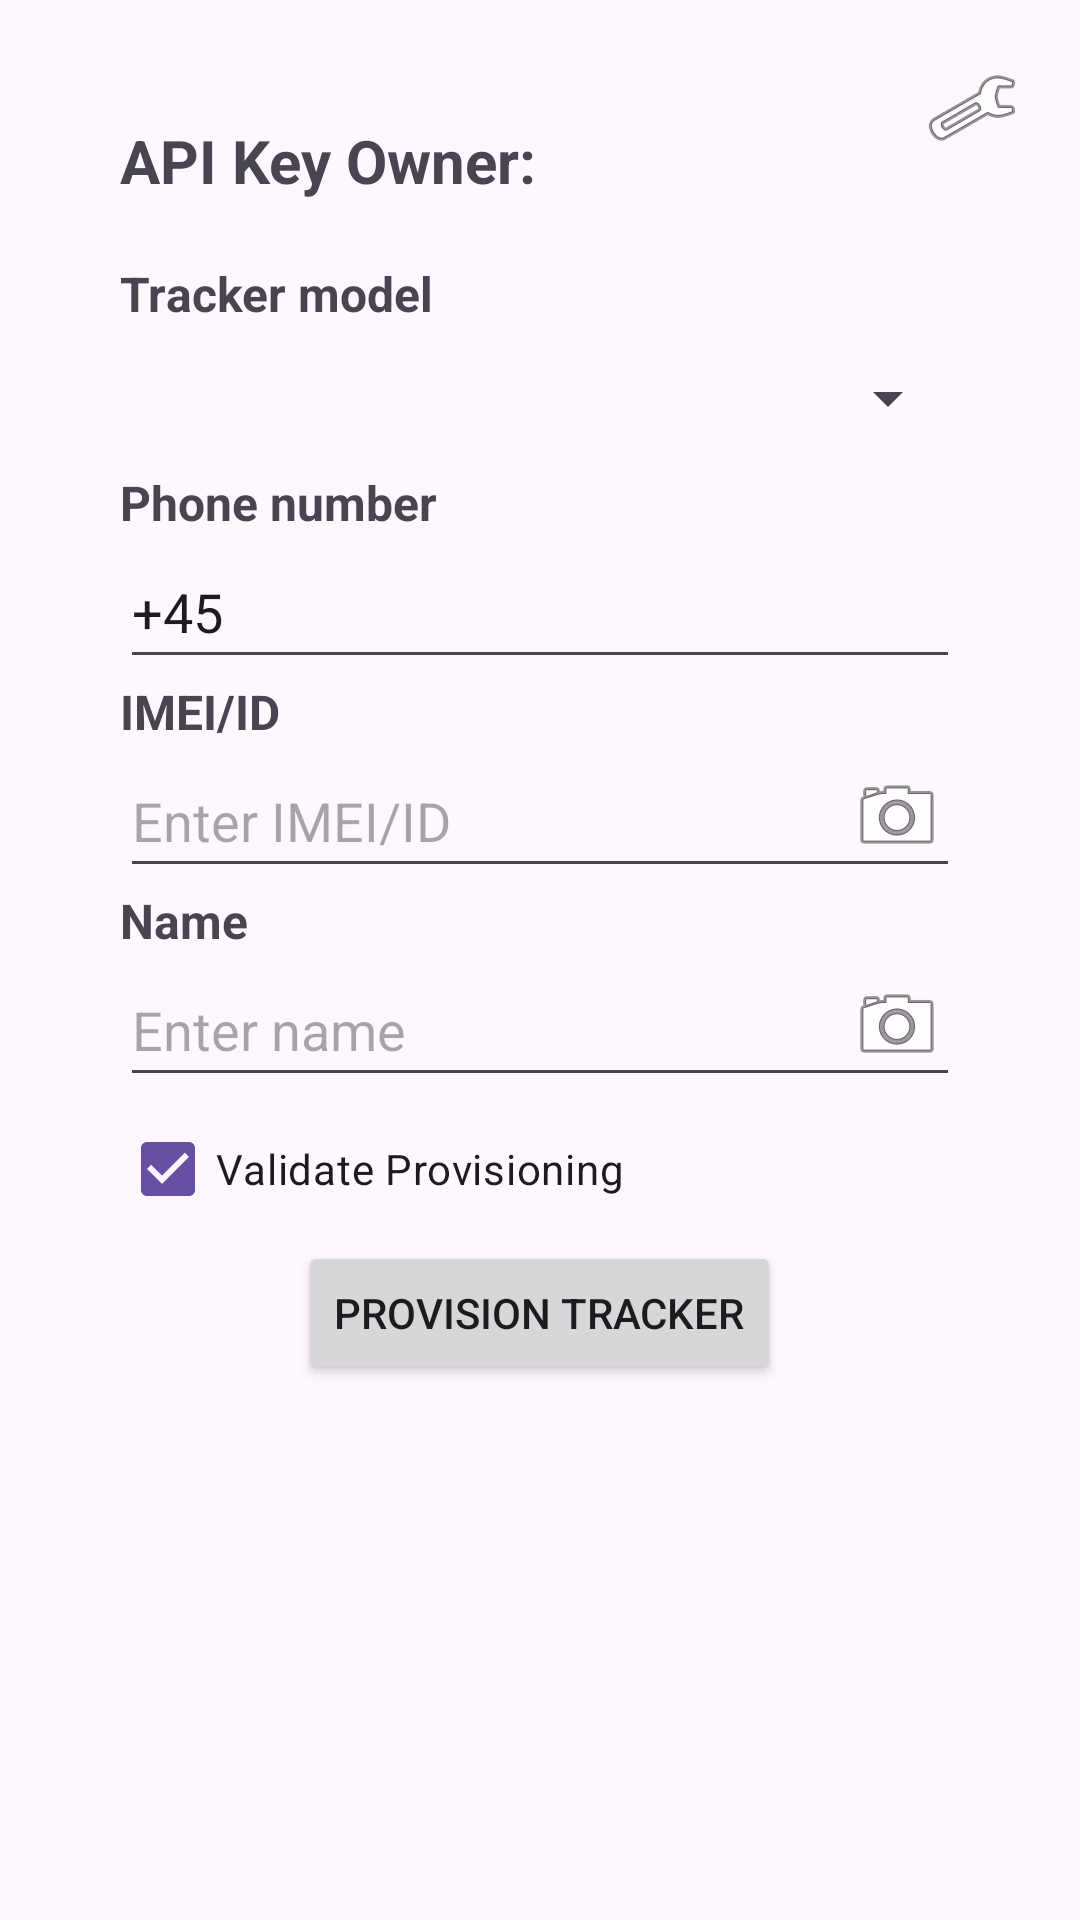

Icon bounding boxes for this 1080*1920 phone screenshot, format bbox=[x1, y1, x2, y2]:
camera: bbox=[860, 785, 934, 844], bbox=[860, 994, 934, 1053]
Settings: bbox=[929, 75, 1015, 141]
